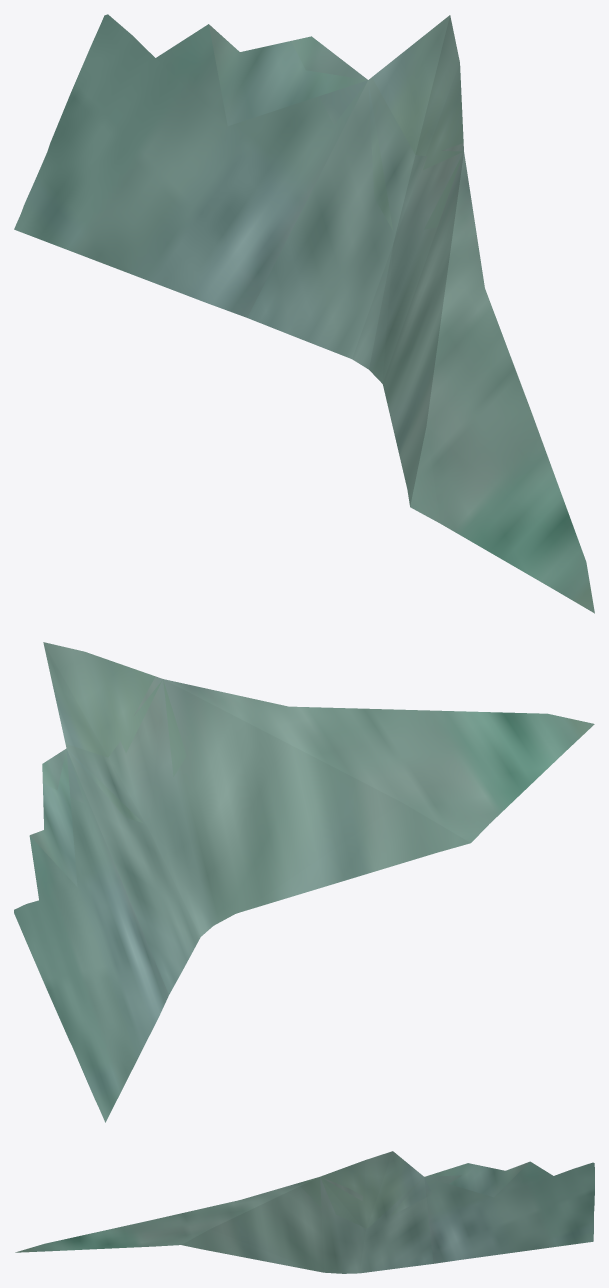
Rendered from Tile_+008_+006_L19_00260.glb.
3 renders of one model, top to bottom at view 1: azimuth 30°, elevation 25°; view 2: azimuth 150°, elevation 25°; view 3: azimuth 270°, elevation 25°, orthographic. The views are drawn at different scales.
Parts seen in each view (by area): view 1: rtc; view 2: rtc; view 3: rtc.
Boxes of the visible parts, x1,y1,x2,y2 form: rtc: (14, 14, 594, 613); rtc: (14, 642, 594, 1122); rtc: (15, 1151, 594, 1273).
Size of the model in its own units: 2.16 by 2.4 by 8.09.
Materials: 1 (1 with a texture image).
